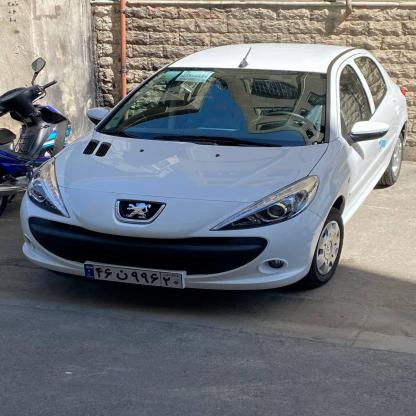Car: (12, 31, 413, 294)
